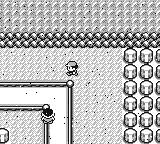main: (65, 62, 78, 75)
no-caminable: (0, 1, 159, 47), (122, 49, 159, 143), (0, 128, 10, 143)
npc: (40, 109, 55, 123)
